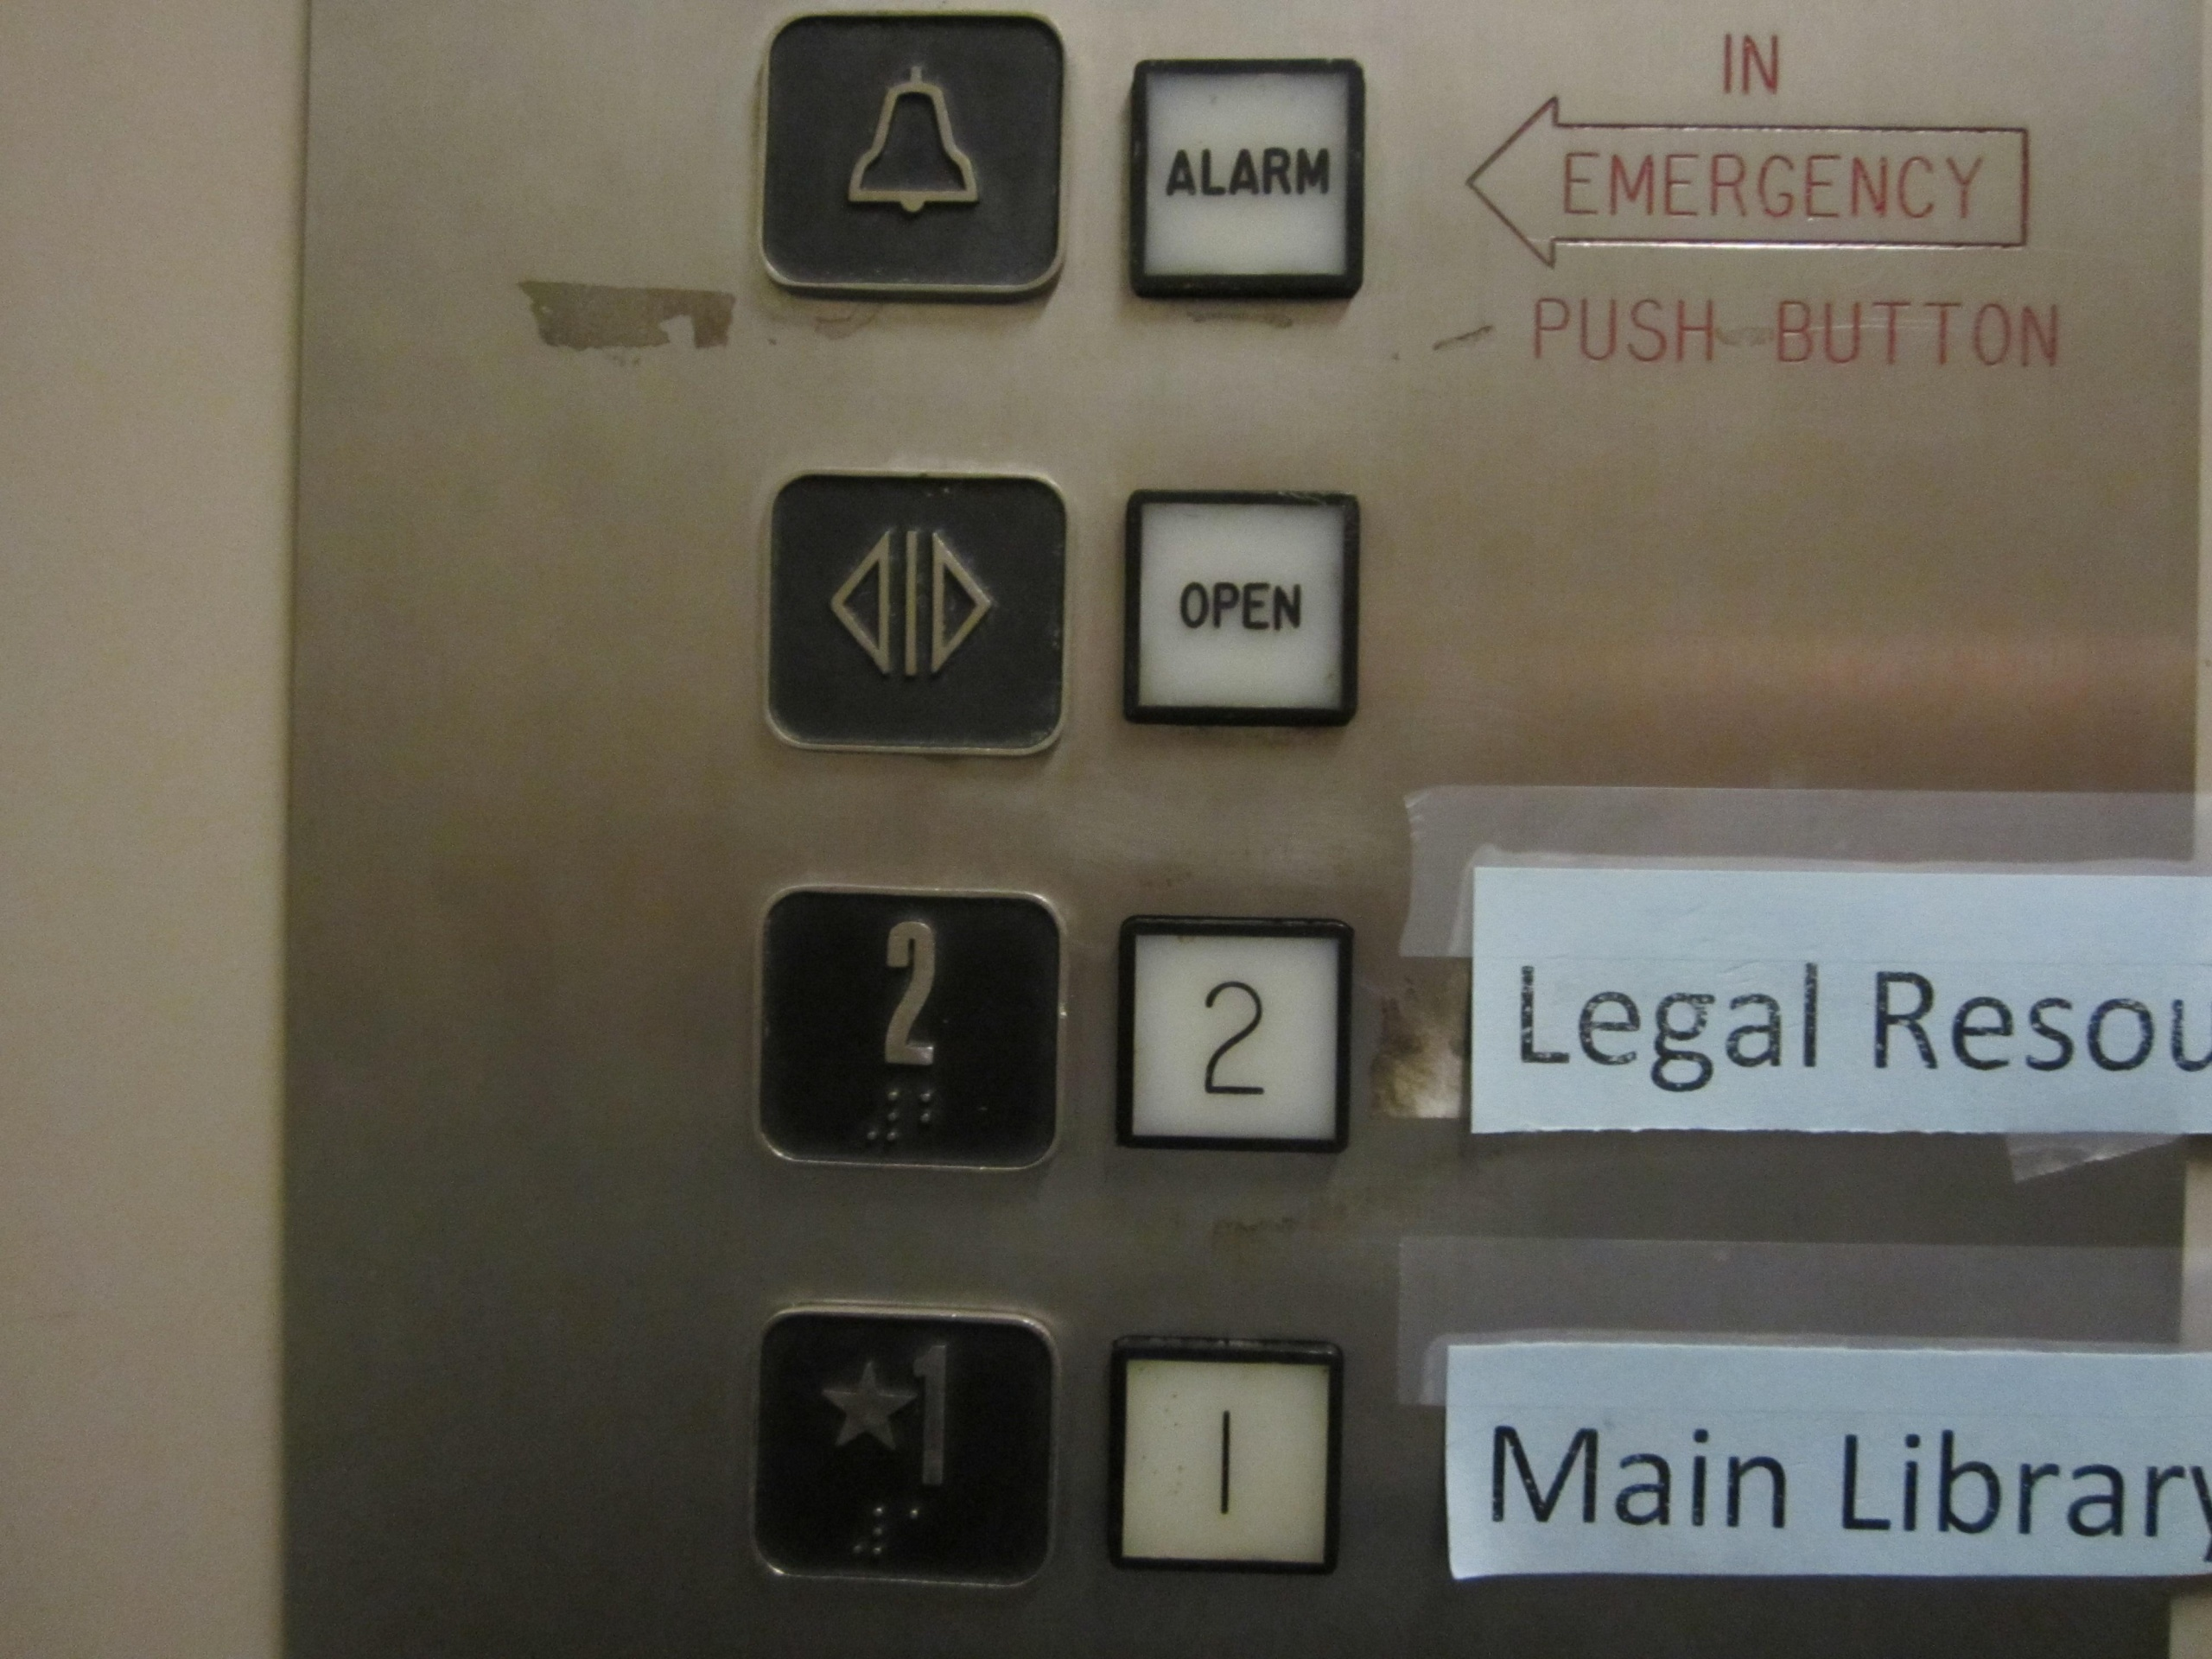1: (1097, 1303, 1362, 1601)
2: (730, 852, 1087, 1206), (1108, 896, 1378, 1180)
alarm: (740, 3, 1087, 324)
open: (751, 460, 1090, 777)
s1: (737, 1284, 1075, 1598)
text_alarm: (1115, 47, 1378, 315)
text_open: (1111, 479, 1374, 744)
